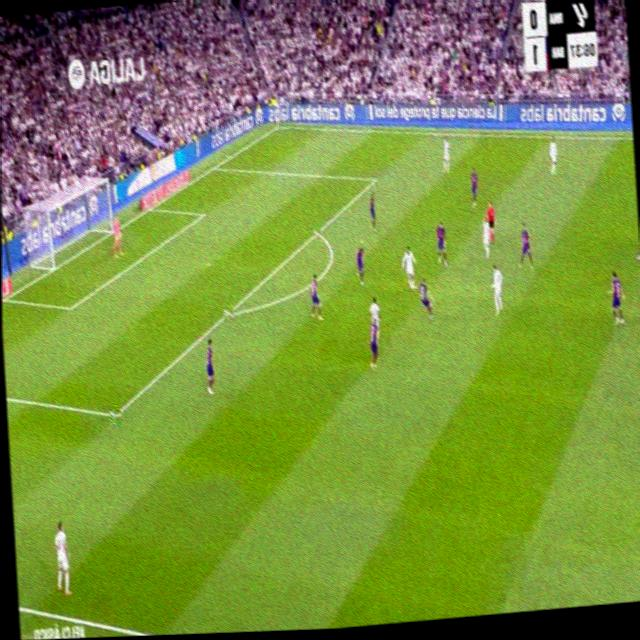bigarea_bottom_inner: (109, 400, 122, 429)
bigarea_top_inner: (372, 172, 379, 186)
bottom_arc_area_intersection: (224, 302, 234, 322)
corner: (274, 121, 283, 131)
smallarea_top_inner: (201, 208, 207, 219)
top_arc_area_intersection: (313, 224, 321, 238)
